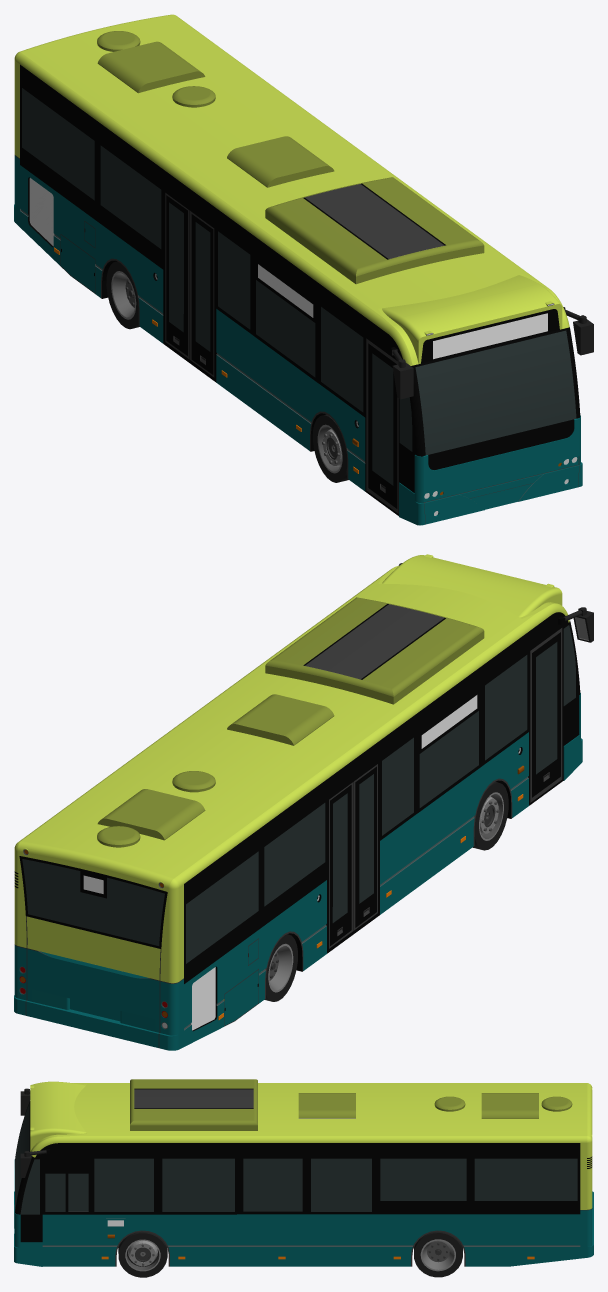
File: bus.dae
3 renders of one model, top to bottom at view 1: azimuth 30°, elevation 25°; view 2: azimuth 150°, elevation 25°; view 3: azimuth 270°, elevation 25°, orthographic. The views are drawn at different scales.
Visible parts, largest first — view 1: Layer0_001, Mirror_001, Mirror_003; view 2: Layer0_001, Mirror_001; view 3: Layer0_001, Mirror_003.
Part boxes in pixels (x1=…): Layer0_001: x1=14, y1=14, x2=582, y2=525; Mirror_001: x1=391, y1=347, x2=413, y2=399; Mirror_003: x1=563, y1=307, x2=593, y2=355; Layer0_001: x1=14, y1=554, x2=582, y2=1050; Mirror_001: x1=558, y1=607, x2=593, y2=642; Layer0_001: x1=14, y1=1079, x2=593, y2=1277; Mirror_003: x1=20, y1=1149, x2=50, y2=1177.
Bounding box in the file's own units: 114 × 120 × 417.
